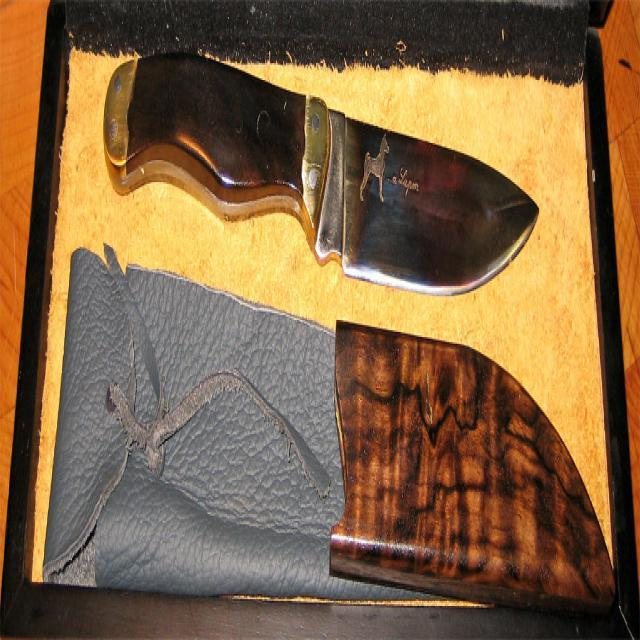Knife: (104, 54, 539, 294)
